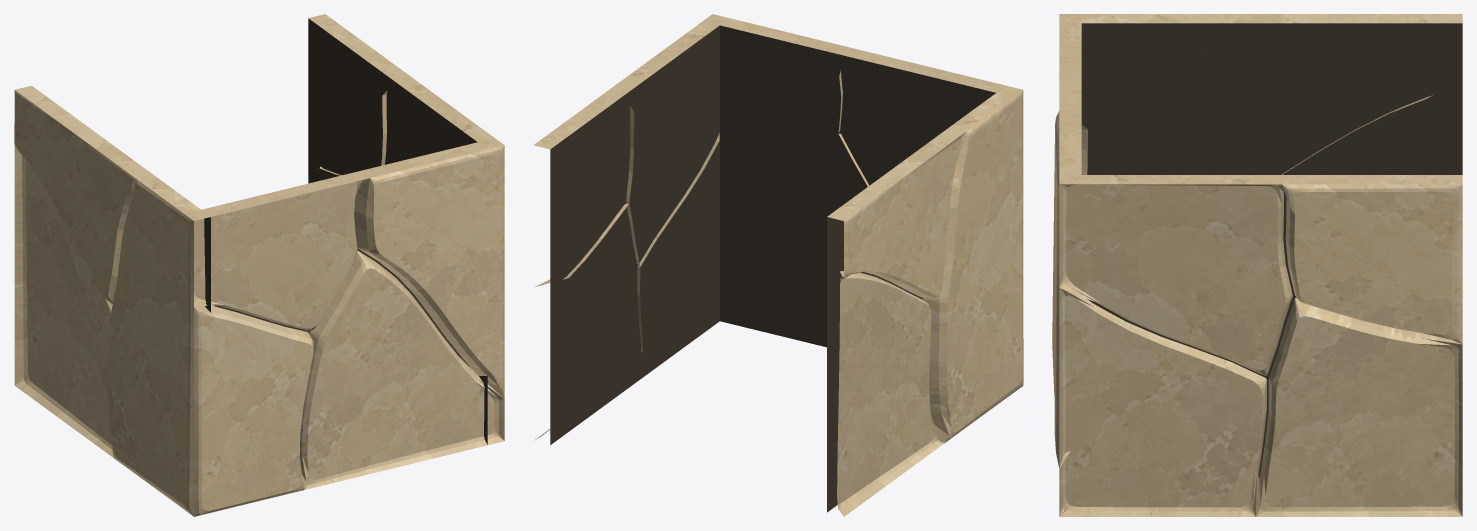
File: ground_end_07.glb
3 renders of one model, left to right at view 1: azimuth 30°, elevation 25°; view 2: azimuth 150°, elevation 25°; view 3: azimuth 270°, elevation 25°, orthographic. The views are drawn at different scales.
Visible parts, largest first — view 1: GroundEnd07_Body; view 2: GroundEnd07_Body; view 3: GroundEnd07_Body.
Boxes of the visible parts, x1,y1,x2,y2 form: GroundEnd07_Body: (14, 14, 504, 516); GroundEnd07_Body: (533, 14, 1023, 516); GroundEnd07_Body: (1052, 14, 1462, 516).
Size of the model in its own units: 1.03 by 0.91 by 1.02.
13 materials, 12 textured.
